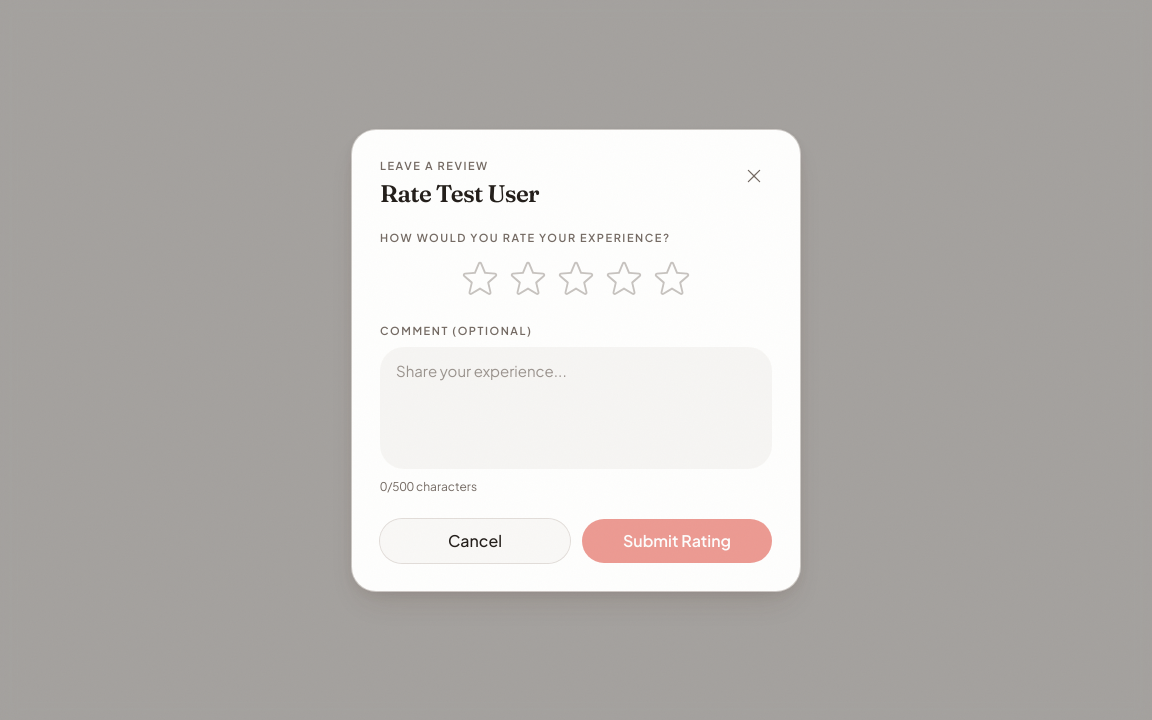
Test: RatingModal › displays correct rating labels
Click the button named "Rate 1 star" at (480, 278), box [460,258,500,298]
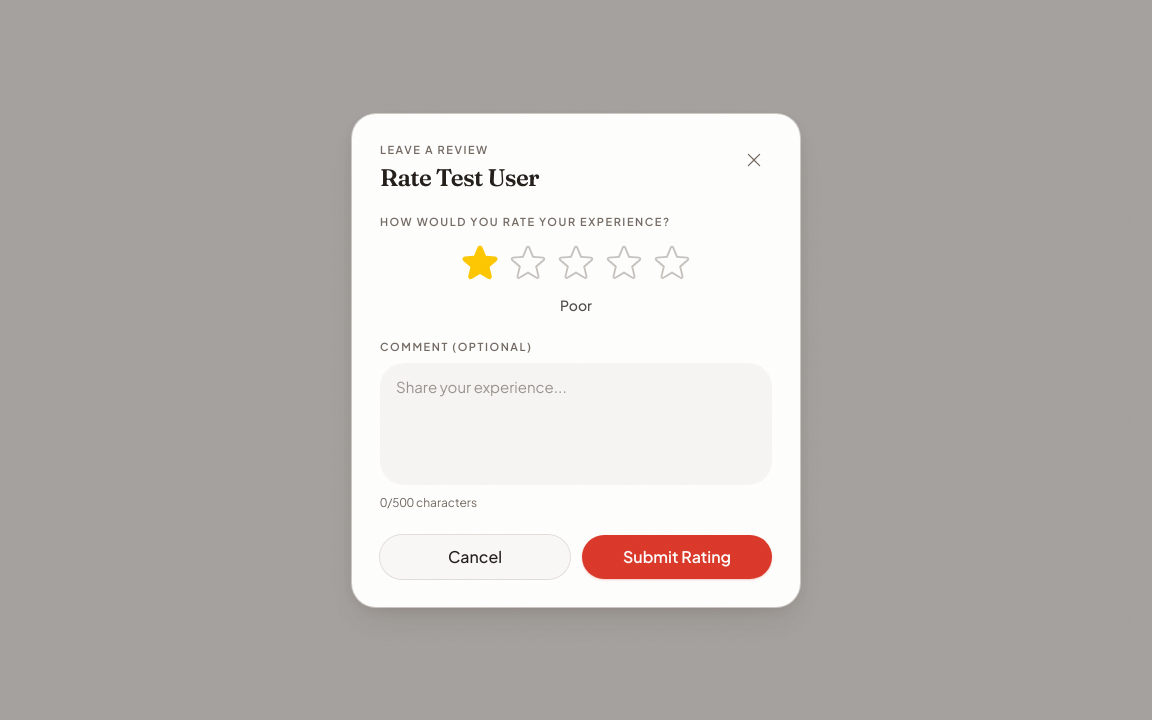
Check: the text "Poor" is shown, box [560,296,592,314]
Click the button named "Rate 2 stars" at (528, 262), box [508,242,548,282]
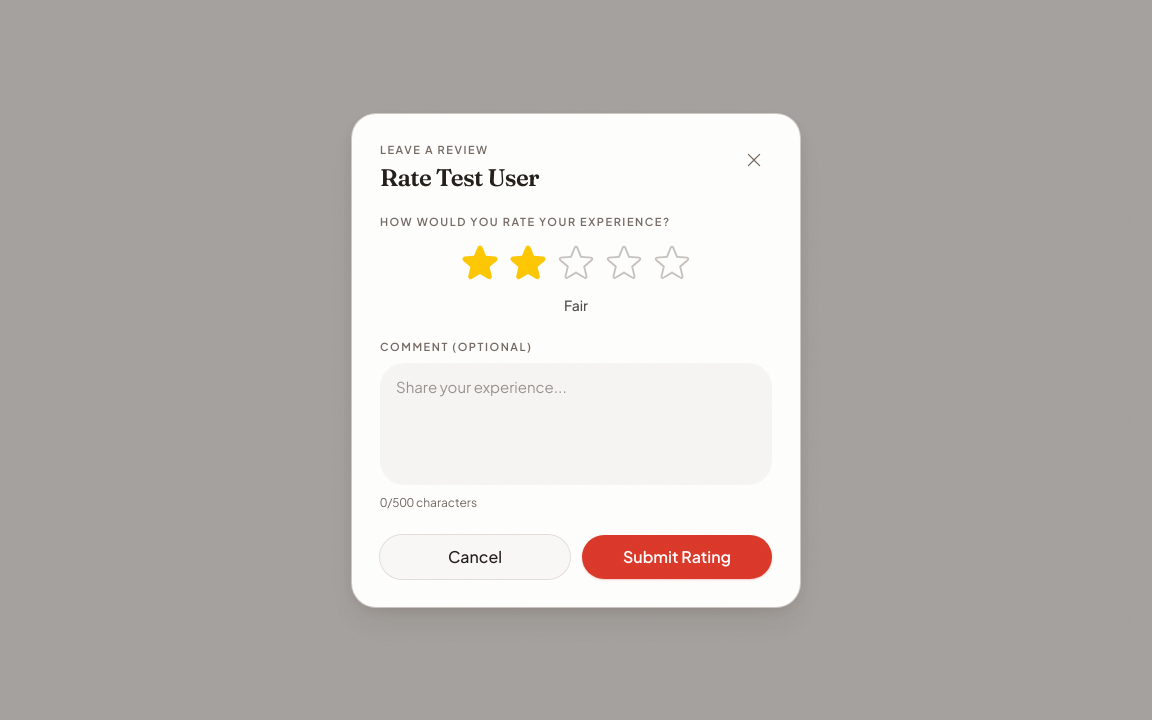
Check: the text "Fair" is shown, box [564,296,588,314]
Click the button named "Rate 3 stars" at (576, 262), box [556,242,596,282]
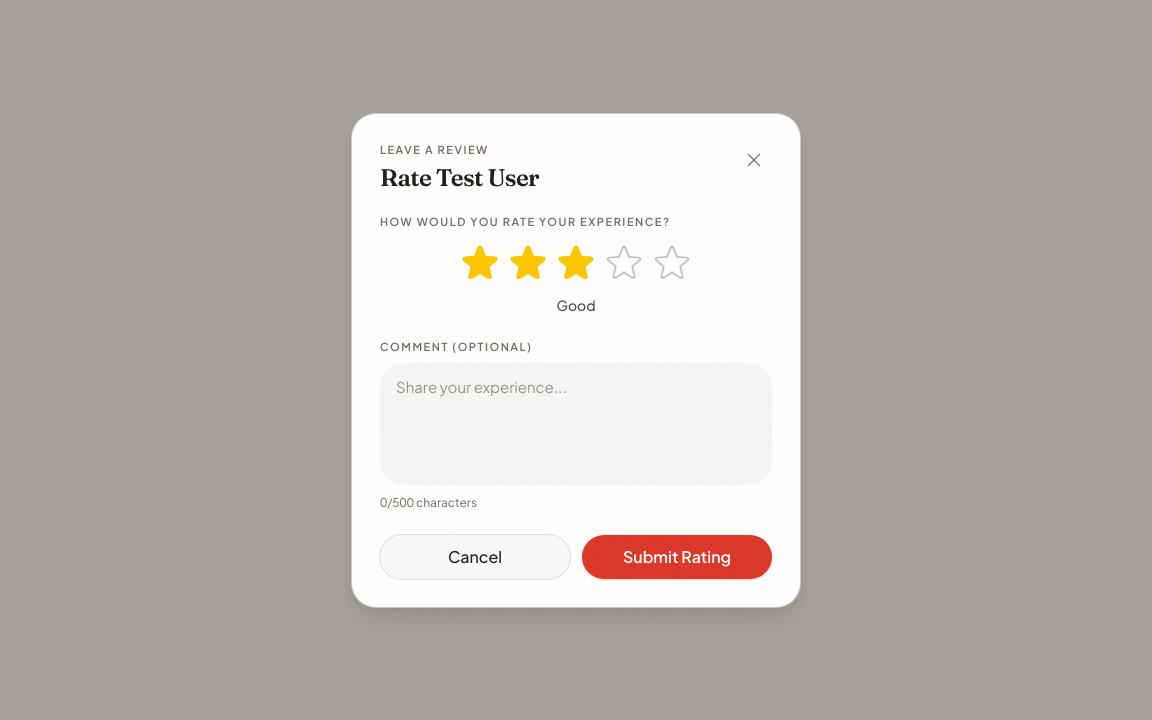
Check: the text "Good" is shown, box [556,296,596,314]
Click the button named "Rate 4 stars" at (624, 262), box [604,242,644,282]
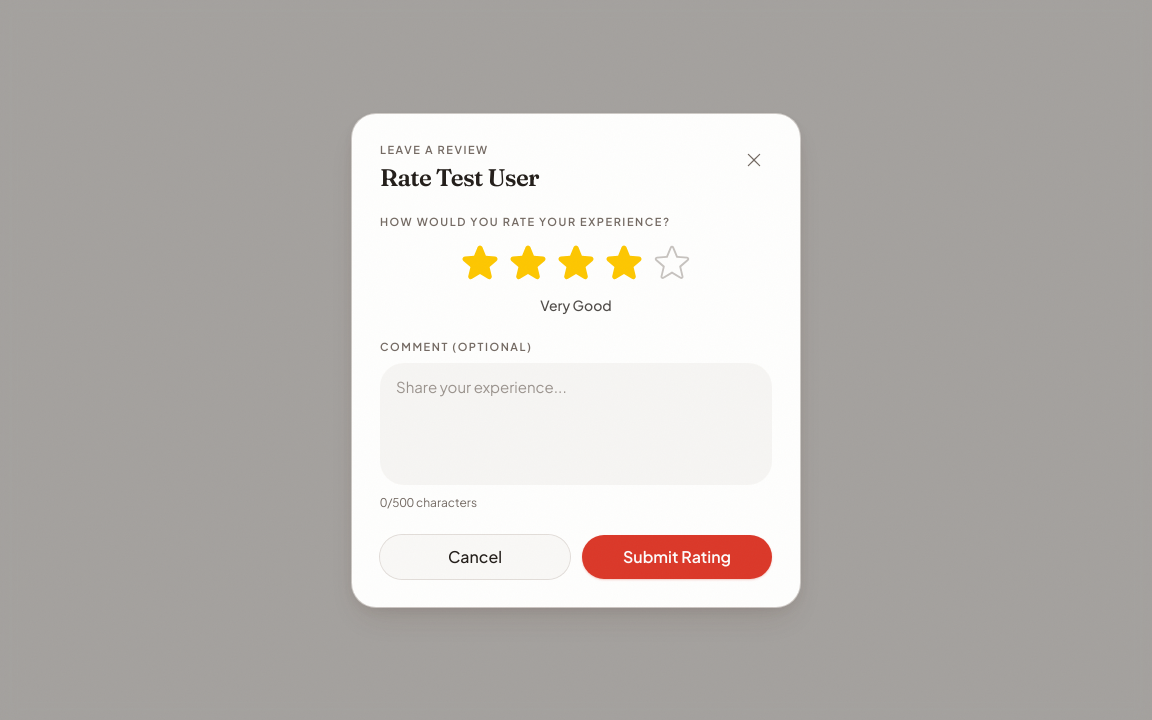
Check: the text "Very Good" is shown, box [540,296,612,314]
Click the button named "Rate 5 stars" at (672, 262), box [652,242,692,282]
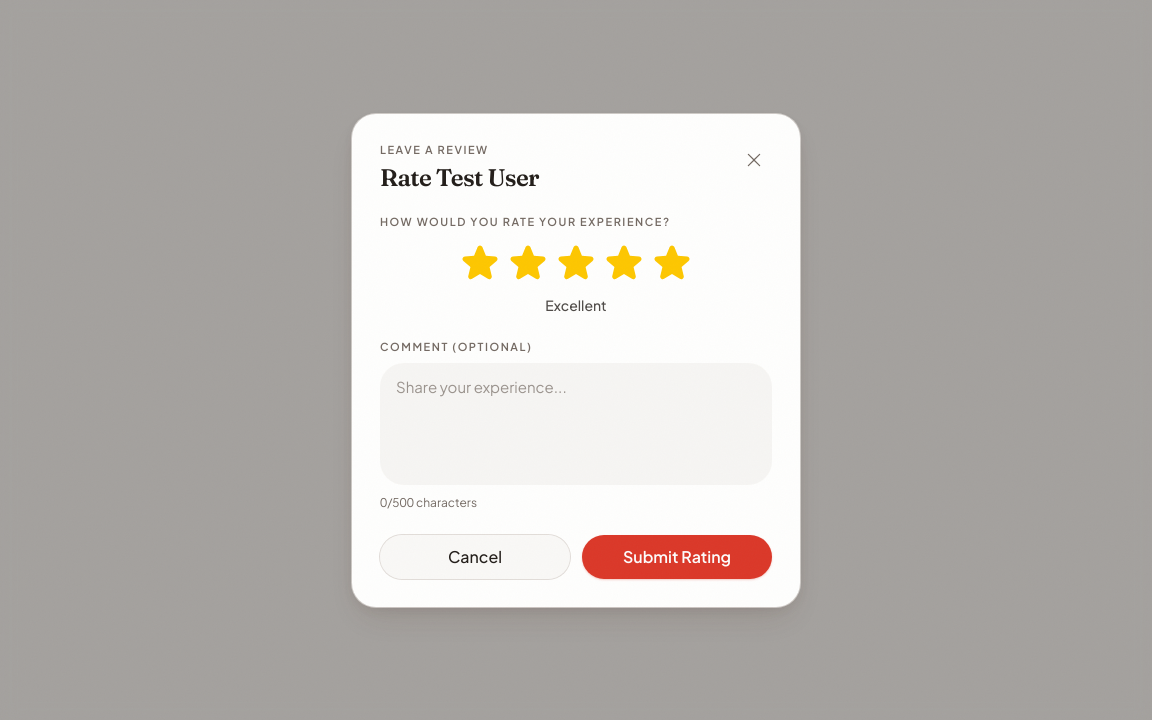
Check: the text "Excellent" is shown, box [545,296,607,314]
